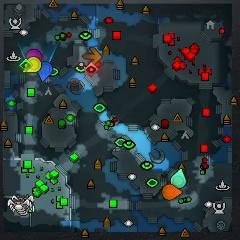Other: (85, 62, 97, 77)
p1: (37, 62, 52, 82)
p2: (170, 168, 186, 189)
p3: (25, 49, 42, 60)
p4: (23, 57, 41, 73)
p5: (162, 185, 182, 200)
x5: (83, 47, 102, 64)
